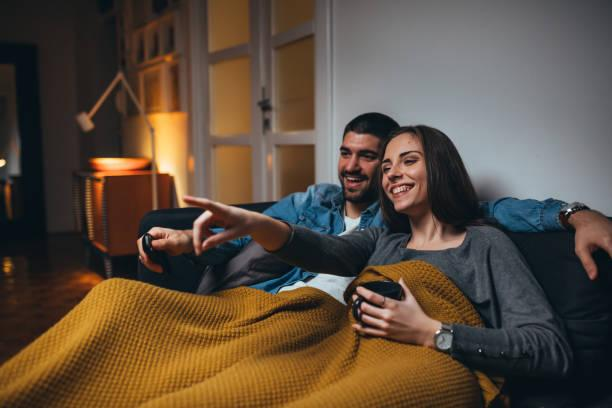blanket: (0, 260, 512, 408)
long sleeve shirt: (263, 219, 579, 380), (203, 182, 570, 298)
